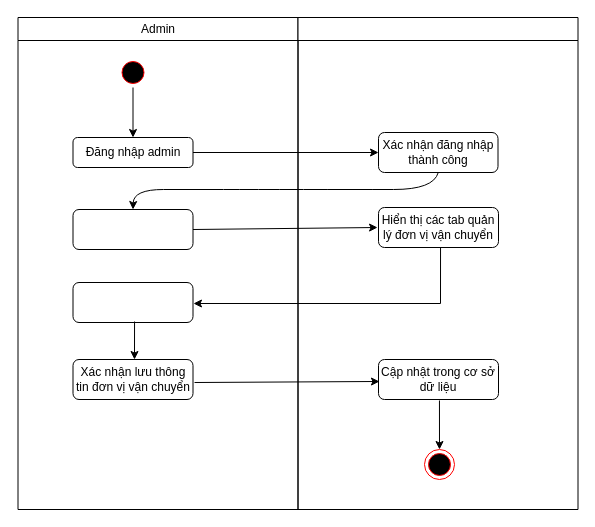
Some shapes in this 595 by 527 pixel diagram are drawn without their labels. The box of each missing label's shape, as (x1, y1, x2, y2) in pixels:
Chọn quản lý đơn vị vận chuyển: (72, 208, 193, 250)
Hệ thống: (297, 16, 578, 510)
Thực hiện cập nhật đơn vị vận chuyển: (72, 282, 193, 322)
